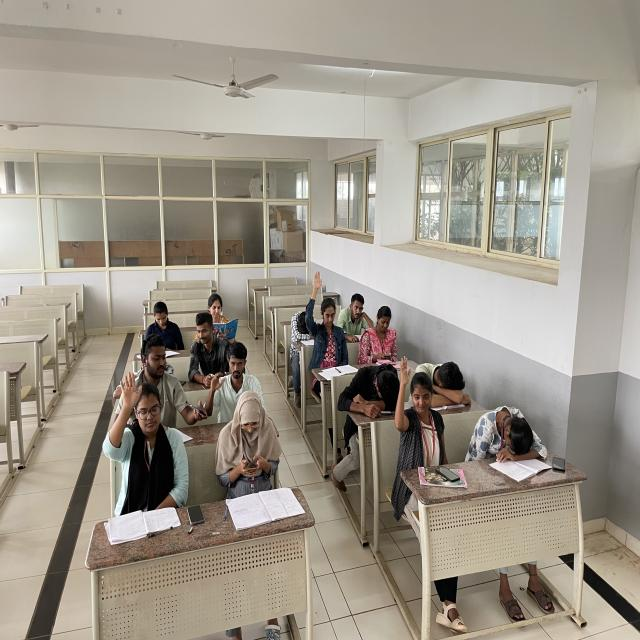Hand Rising: (104, 372, 190, 505), (198, 343, 276, 441), (389, 352, 446, 462), (306, 267, 352, 363)
Reading: (206, 293, 243, 334)
Sleeping: (466, 403, 547, 460), (345, 364, 402, 418), (414, 358, 474, 404)
Using Phone: (123, 324, 210, 455), (216, 388, 288, 489), (363, 305, 401, 361), (143, 297, 182, 346)
